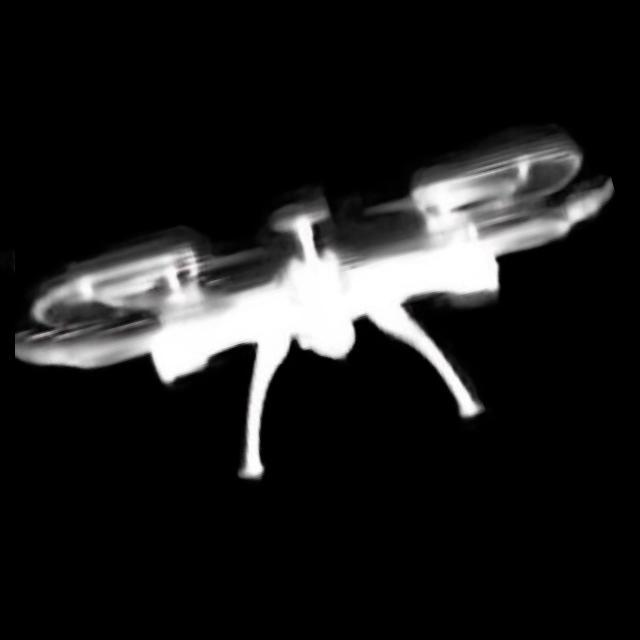drone: (15, 91, 640, 567)
